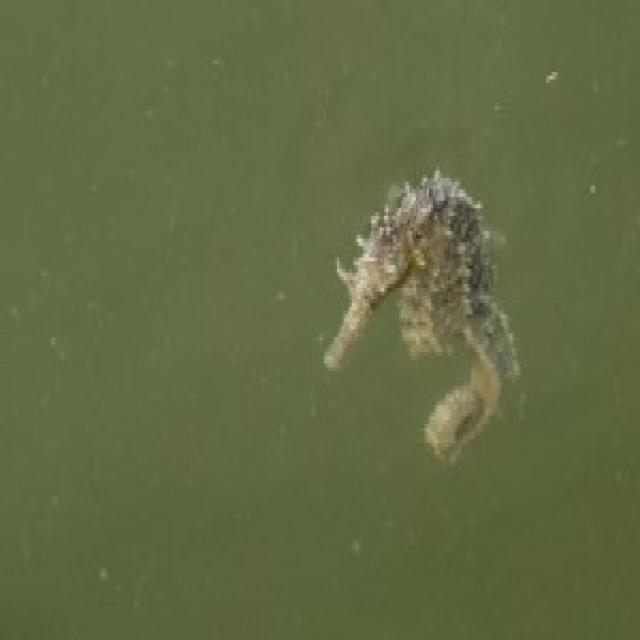Seahorse: (322, 163, 527, 488)
